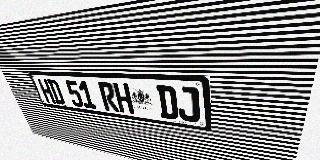1: (76, 81, 97, 109)
5: (65, 80, 85, 107)
D: (156, 85, 179, 120), (46, 79, 66, 105)
H: (112, 83, 134, 114), (37, 79, 56, 103)
J: (176, 86, 200, 123)
R: (98, 82, 119, 112)
